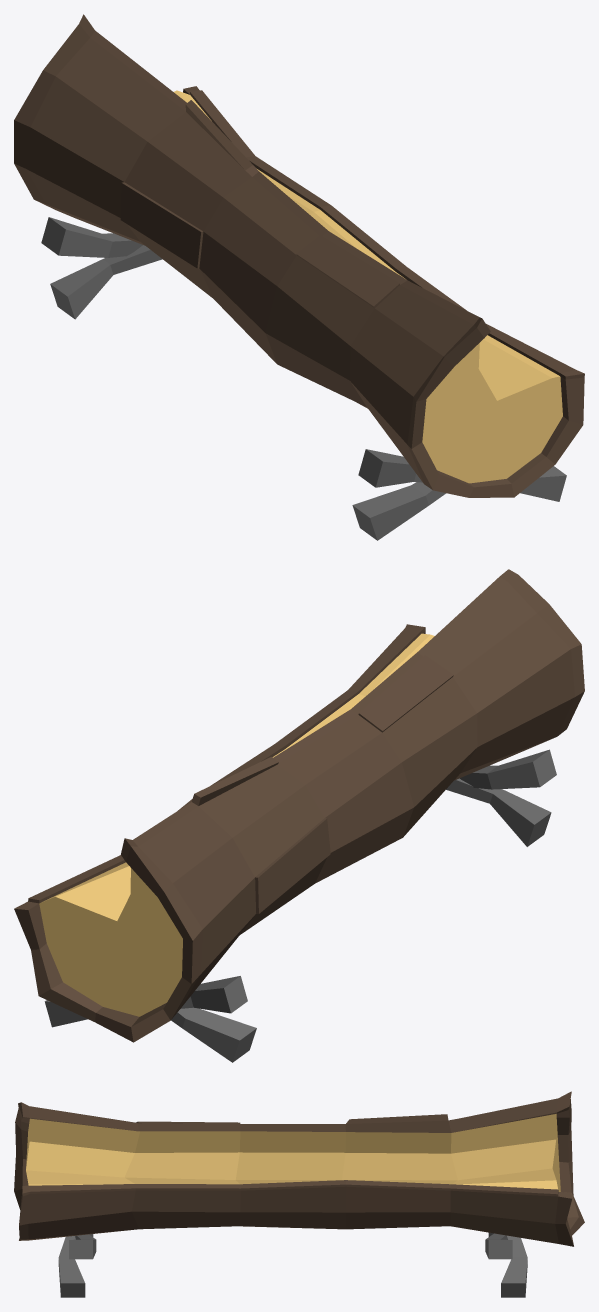
The model's file is Storage.fbx.
3 renders of one model, top to bottom at view 1: azimuth 30°, elevation 25°; view 2: azimuth 150°, elevation 25°; view 3: azimuth 270°, elevation 25°, orthographic. The views are drawn at different scales.
Visible parts, largest first — view 1: Cube.004; view 2: Cube.004; view 3: Cube.004.
Part boxes in pixels (box(x1,y1,x2,y2)): Cube.004: box(14, 14, 584, 540); Cube.004: box(14, 569, 584, 1062); Cube.004: box(14, 1091, 584, 1297).
Size of the model in its own units: 266 by 325 by 989.
Materials: 1 (1 with a texture image).
